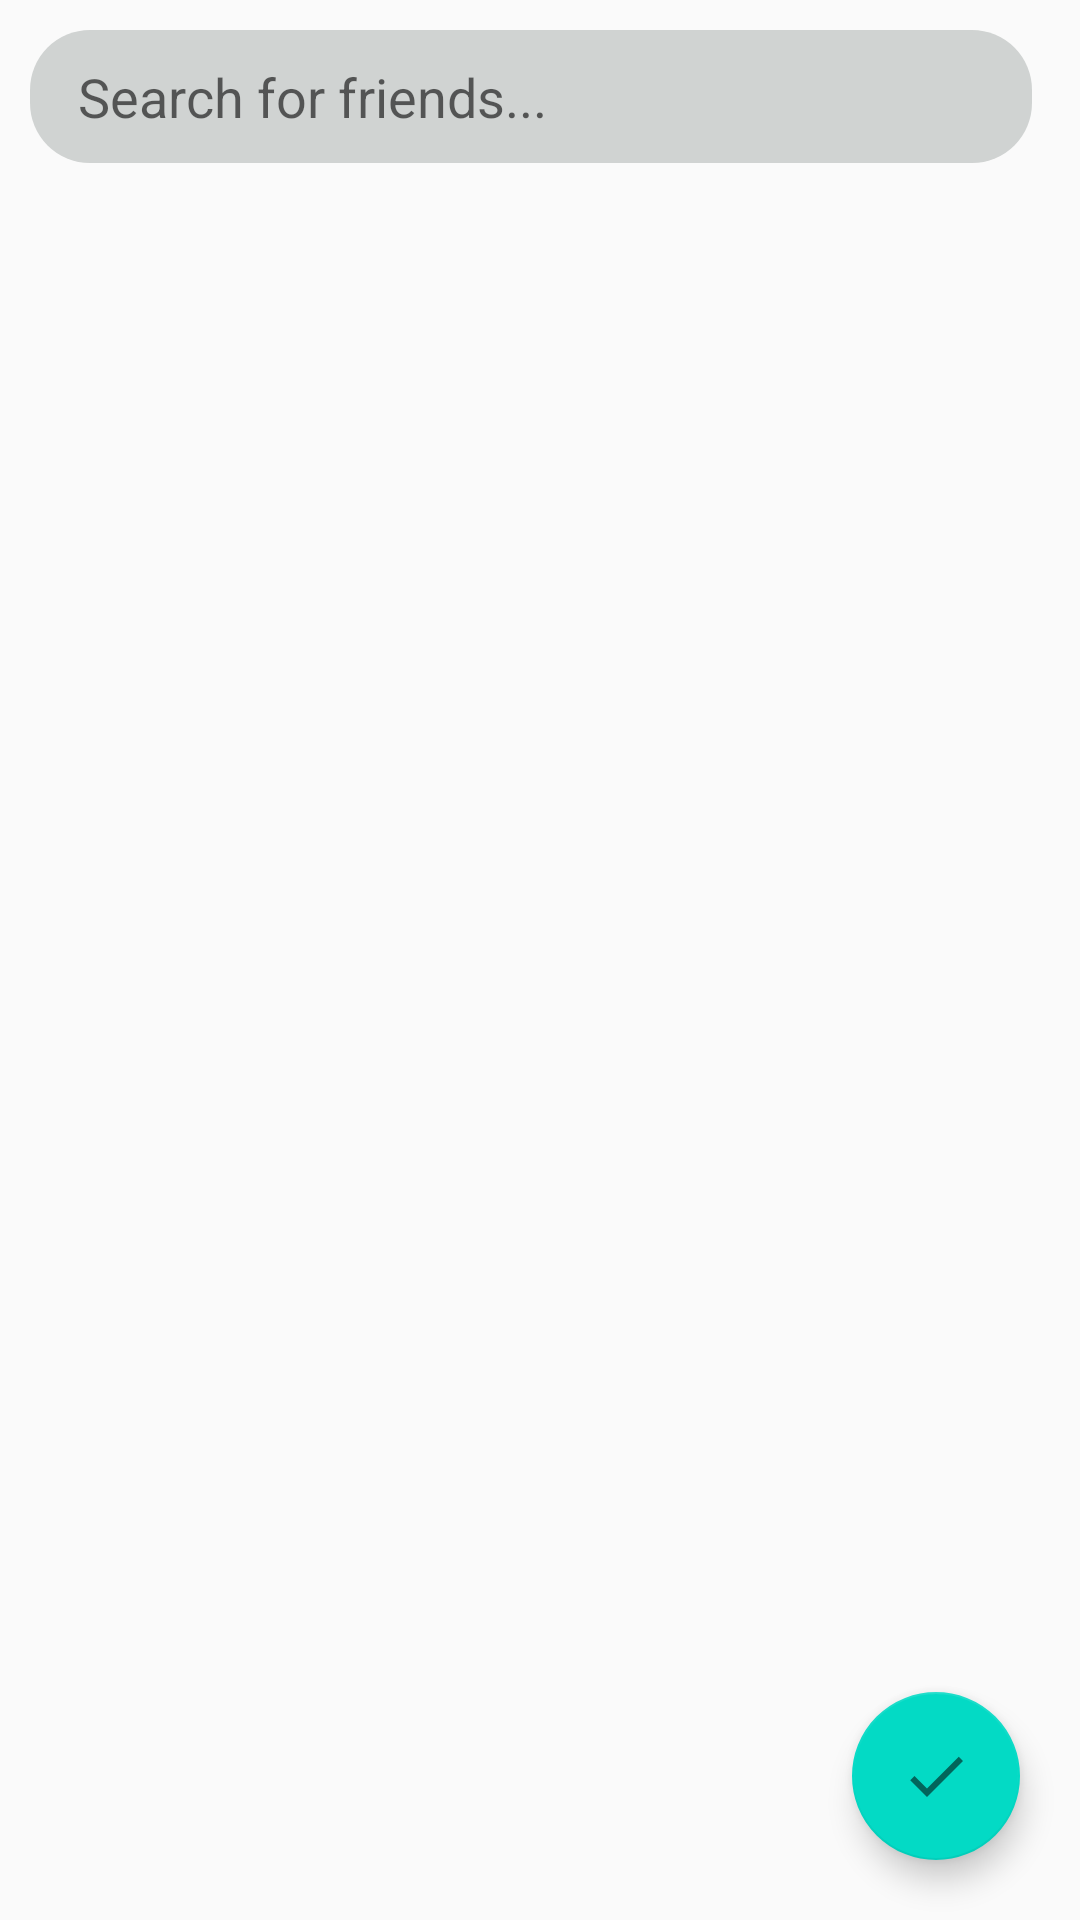

Screen size 1080*1920. Icon name, then its center in pixels as (x,y):
check: (936,1776)
